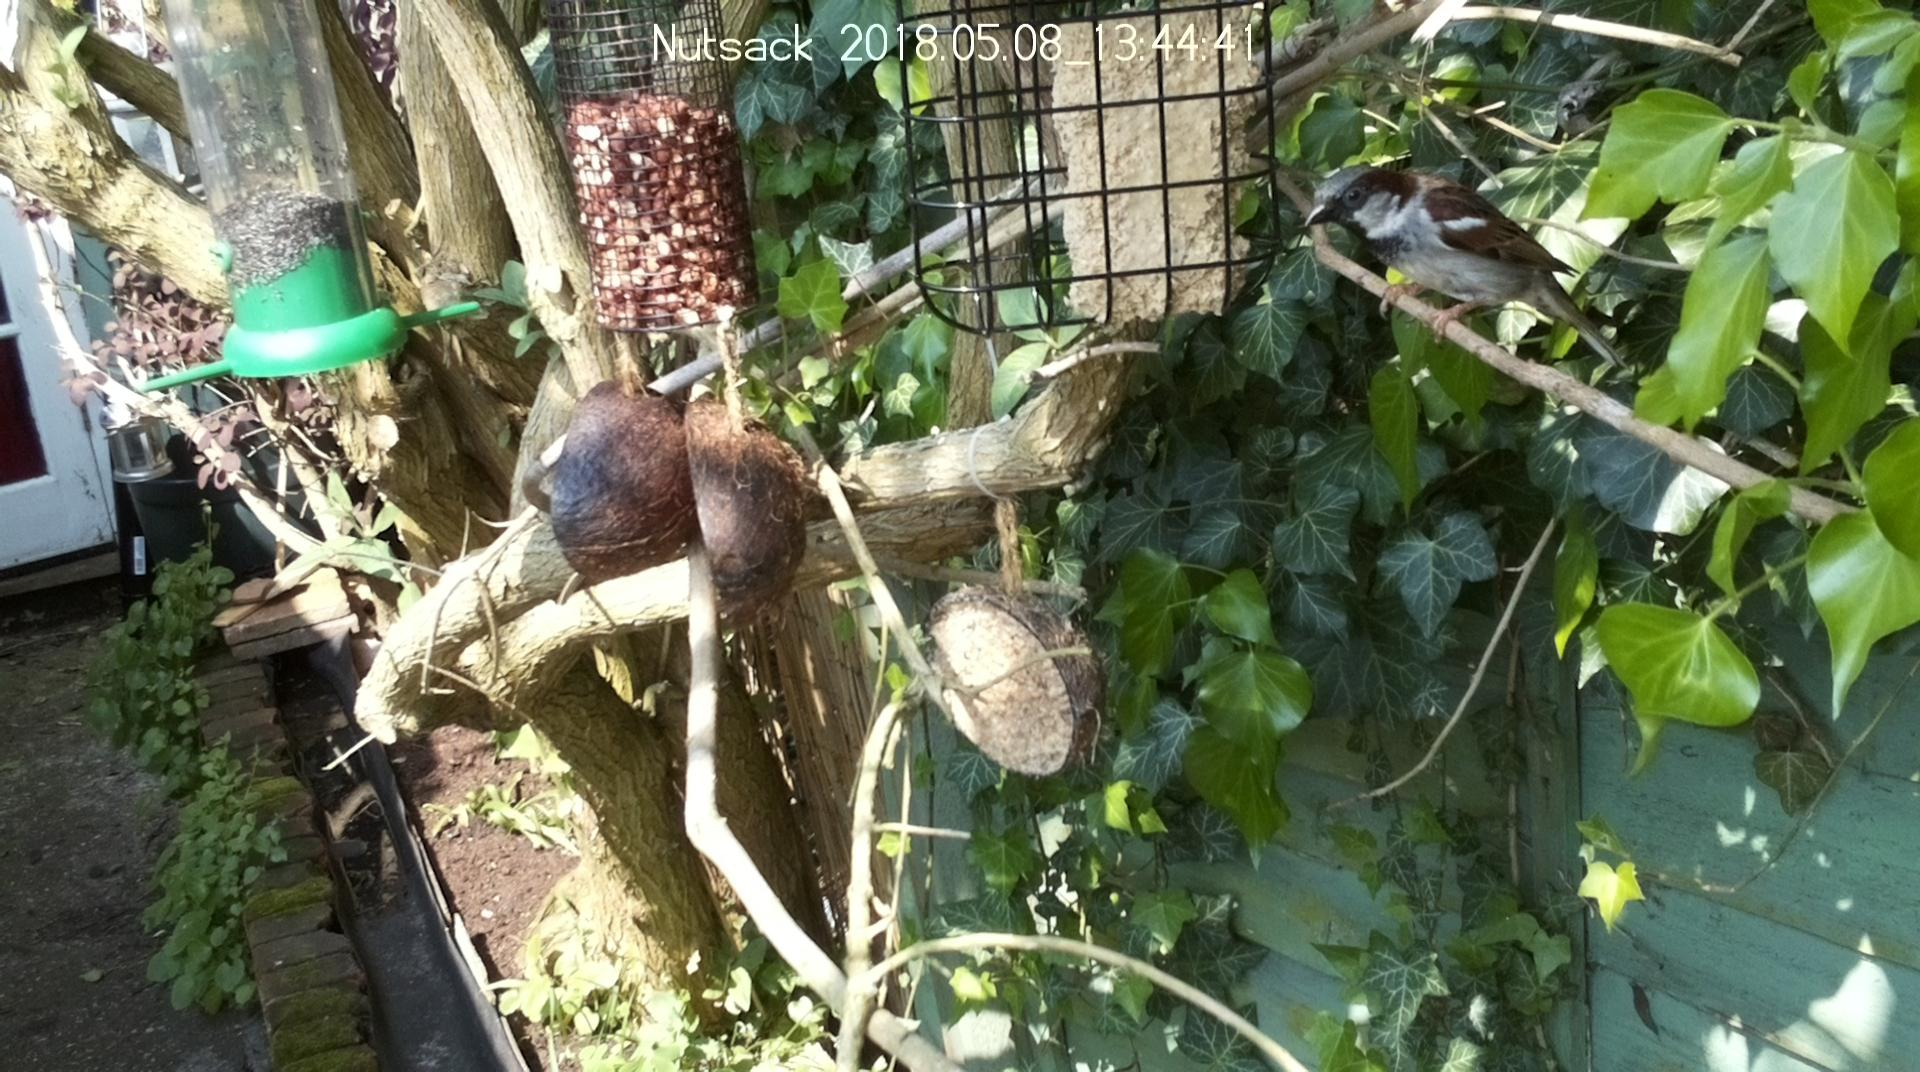sparrow: (1304, 166, 1629, 371)
